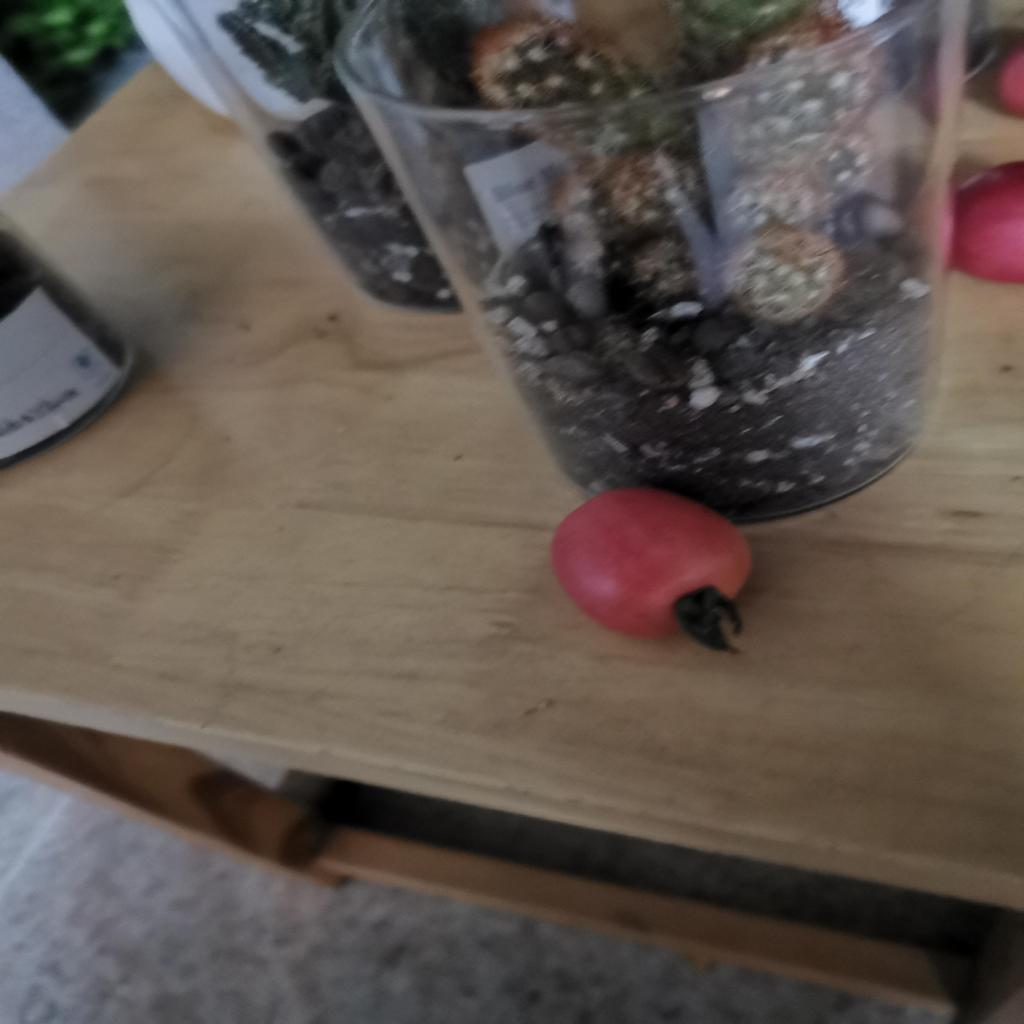tomato: (549, 480, 767, 658)
